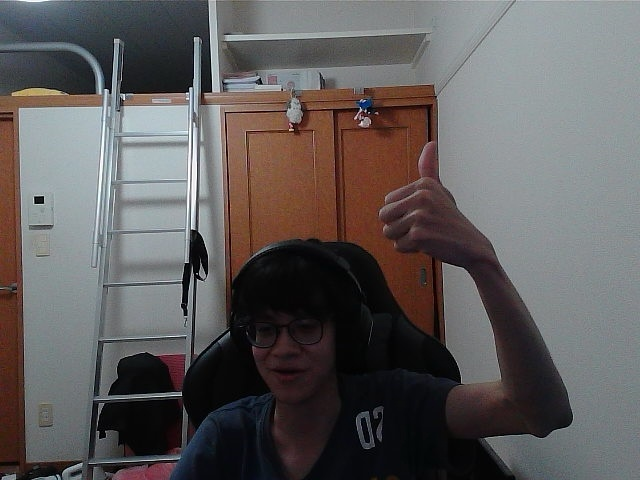thumb_up: (387, 147, 464, 245)
